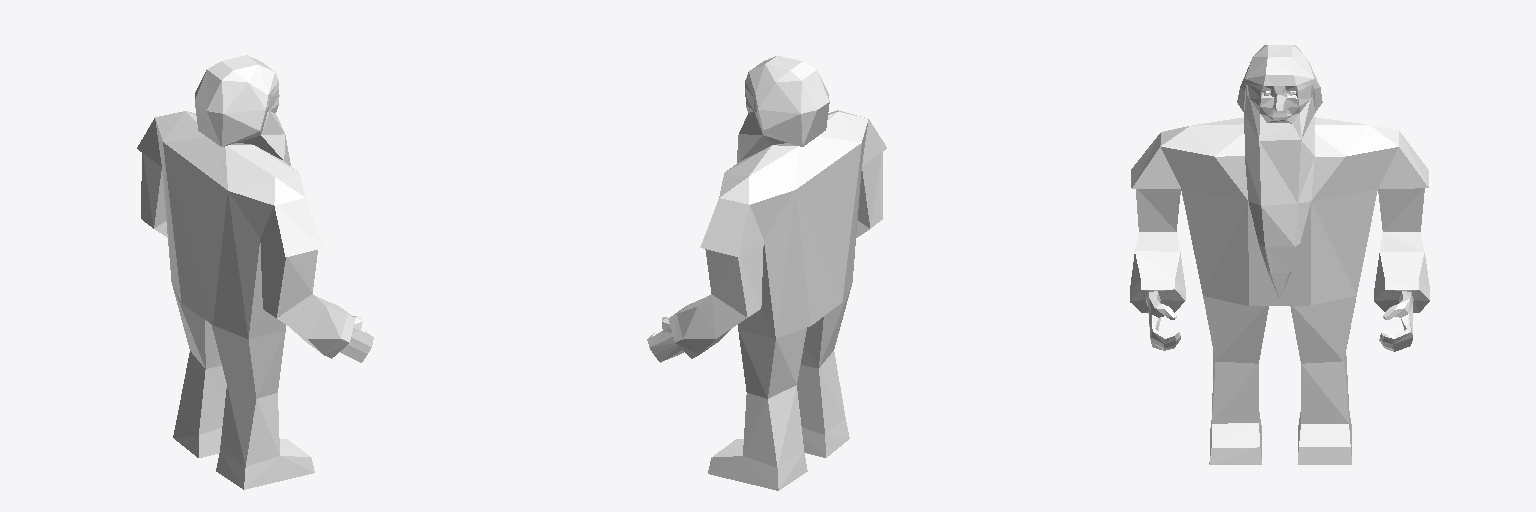
Rendered from Creature.obj.
The picture shows the model from 3 angles: view 1: azimuth 30°, elevation 25°; view 2: azimuth 150°, elevation 25°; view 3: azimuth 270°, elevation 25°; orthographic projection.
Visible parts, largest first — view 1: Dwarf; view 2: Dwarf; view 3: Dwarf.
Boxes of the visible parts, x1=… form: Dwarf: x1=137, y1=55, x2=373, y2=489; Dwarf: x1=647, y1=56, x2=886, y2=490; Dwarf: x1=1130, y1=45, x2=1429, y2=464.
Bounding box in the file's own units: 0.097 × 0.3 × 0.2072.